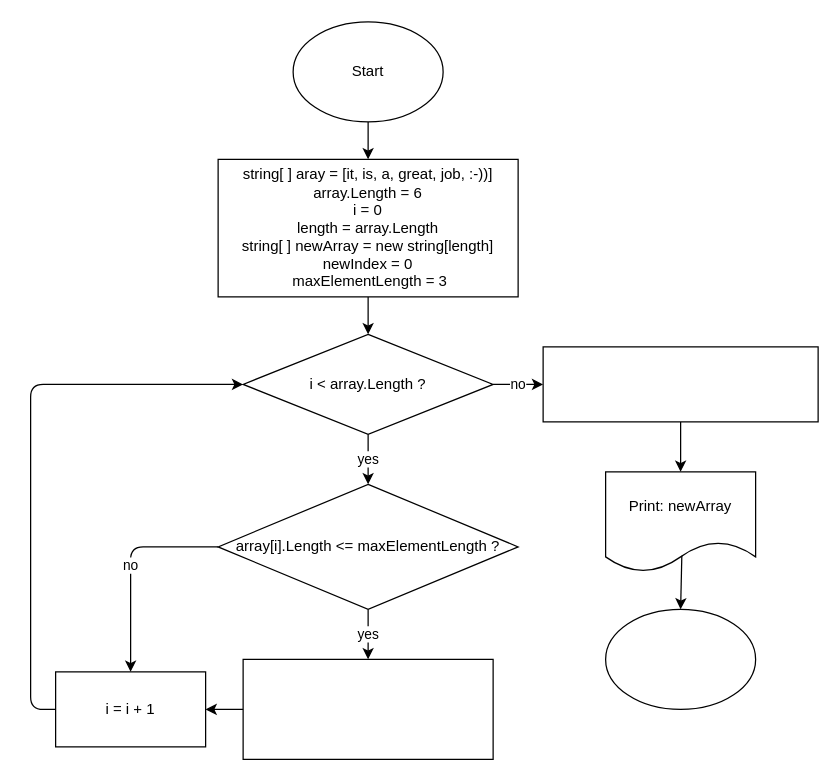
This 840x781 diagram has some shape labels left out. Here are the shapes that lost their labels. From the top down, the centre of each, then its label:
the point at 680,384: Array.Resize(ref newArray, newIndex)
the point at 680,658: End
the point at 367,708: newArray[newIndex] = array[ i ] newIndex = newIndex + 1
